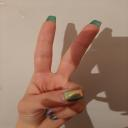PeaceSign: (18, 14, 107, 128)
